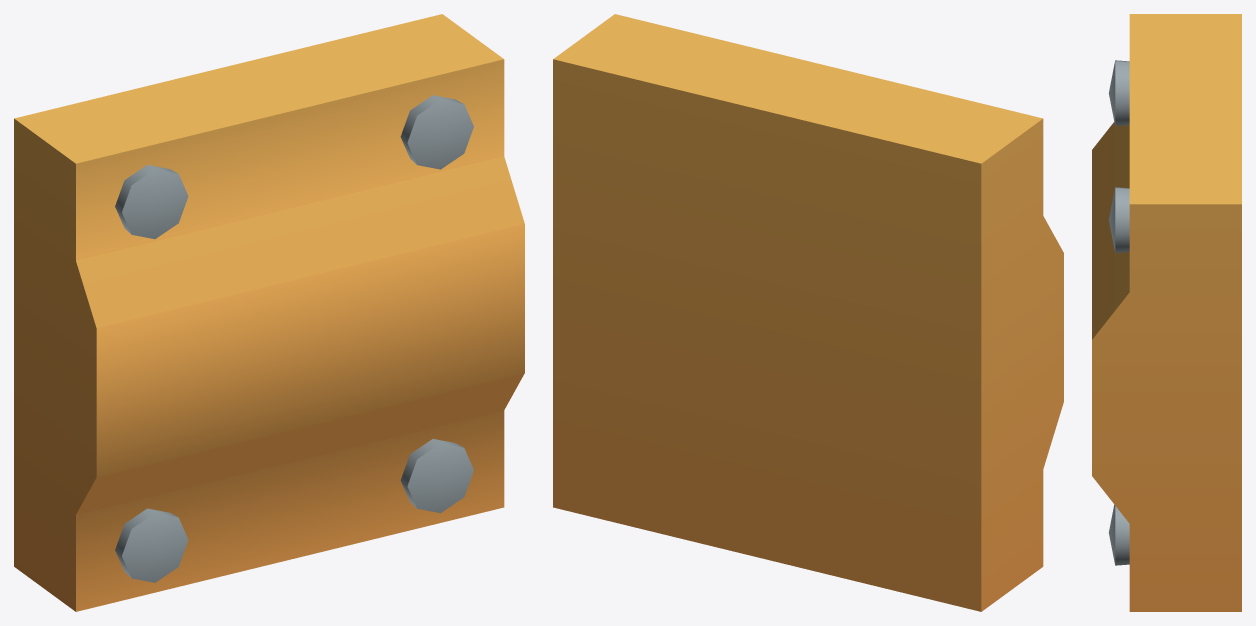
The model's file is bracing_medium_yellow.glb.
3 views of the same model, side by side, from view 1: azimuth 30°, elevation 25°; view 2: azimuth 150°, elevation 25°; view 3: azimuth 270°, elevation 25° (orthographic). The views are drawn at different scales.
Visible parts, largest first — view 1: bracing_medium_yellow; view 2: bracing_medium_yellow; view 3: bracing_medium_yellow.
Part boxes in pixels (x1,y1,x2,y2): bracing_medium_yellow: [14, 14, 524, 611]; bracing_medium_yellow: [553, 14, 1063, 611]; bracing_medium_yellow: [1092, 14, 1241, 611].
Size of the model in its own units: 0.6 by 0.6 by 0.2.
1 material, 1 textured.
